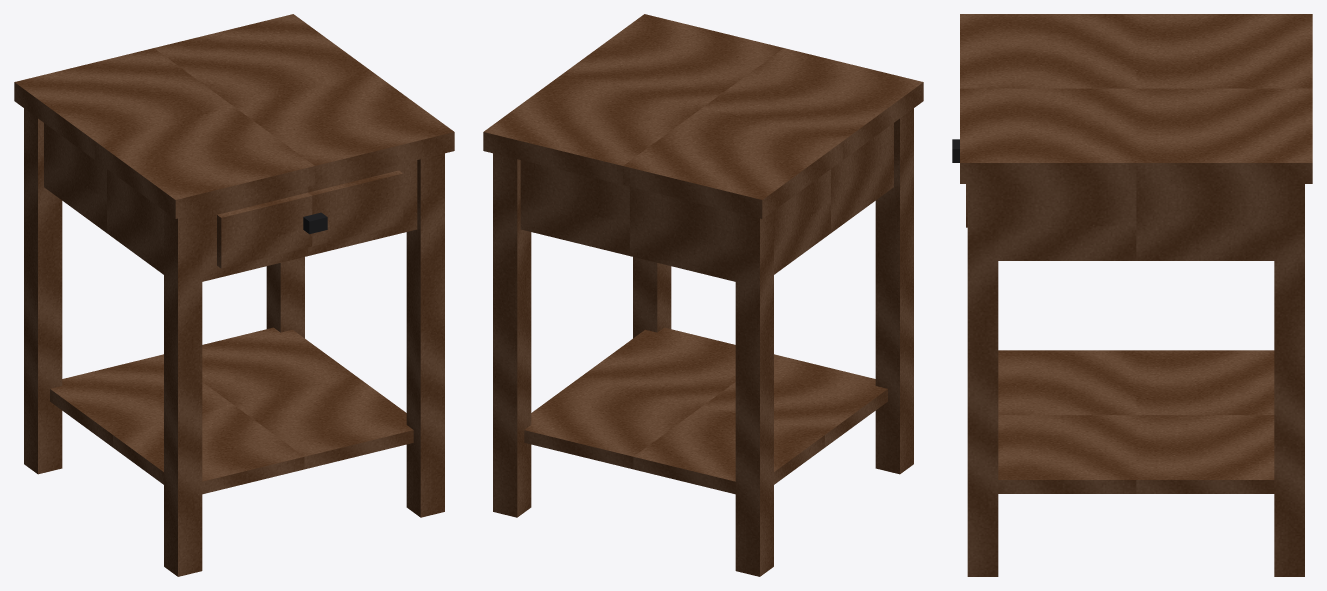
File: SM_OpRoom_SideTable.fbx
3 renders of one model, left to right at view 1: azimuth 30°, elevation 25°; view 2: azimuth 150°, elevation 25°; view 3: azimuth 270°, elevation 25°, orthographic. The views are drawn at different scales.
Parts seen in each view (by area): view 1: SideTable; view 2: SideTable; view 3: SideTable.
Part boxes in pixels (bbox=[...]): SideTable: bbox=[14, 14, 454, 576]; SideTable: bbox=[483, 14, 923, 576]; SideTable: bbox=[952, 14, 1312, 576].
Size of the model in its own units: 0.46 by 0.6 by 0.47.
Materials: 2 (2 with a texture image).
